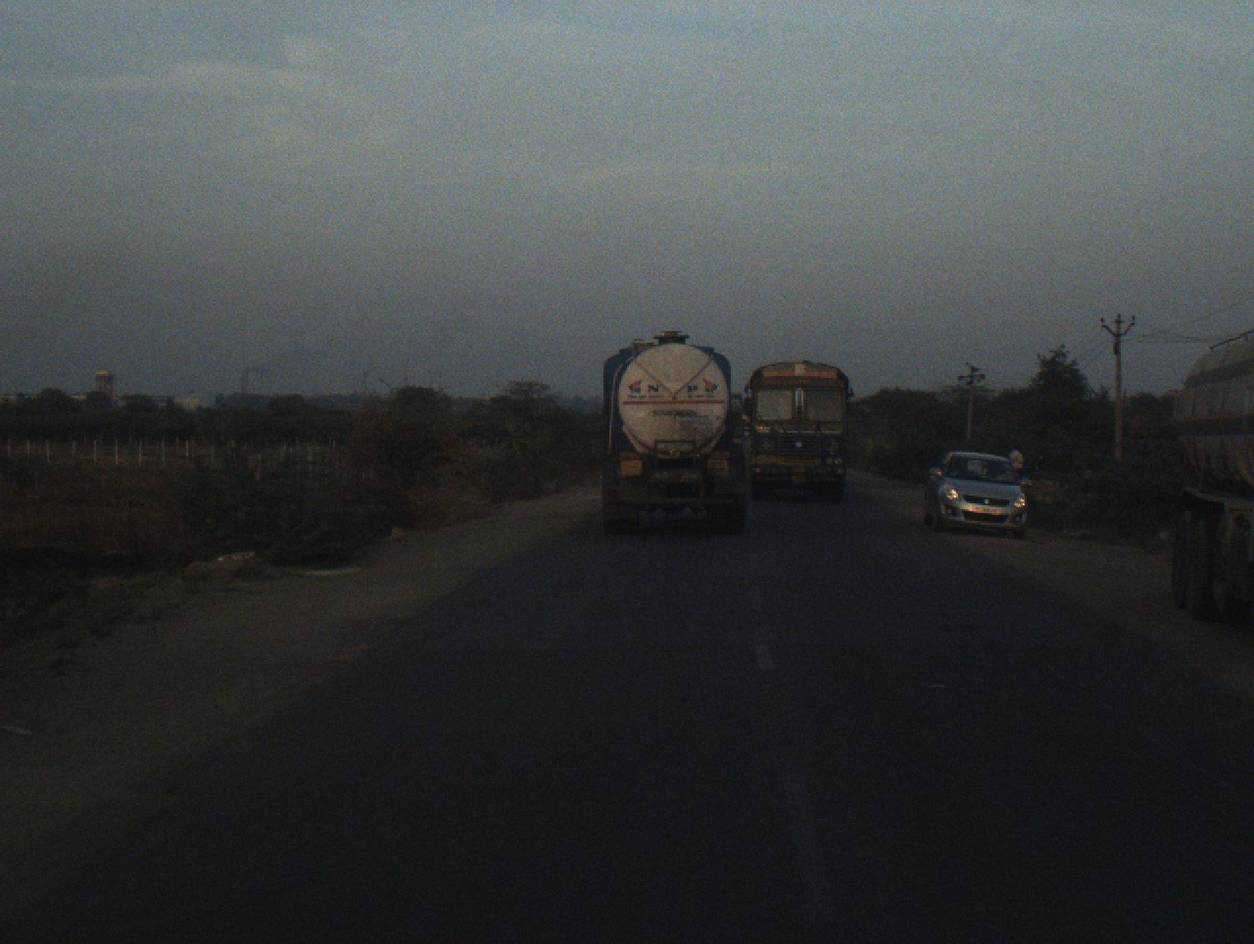car: (923, 444, 1031, 539)
person: (1005, 446, 1029, 481)
truck: (596, 325, 741, 539), (1154, 338, 1237, 611), (737, 355, 862, 504)
